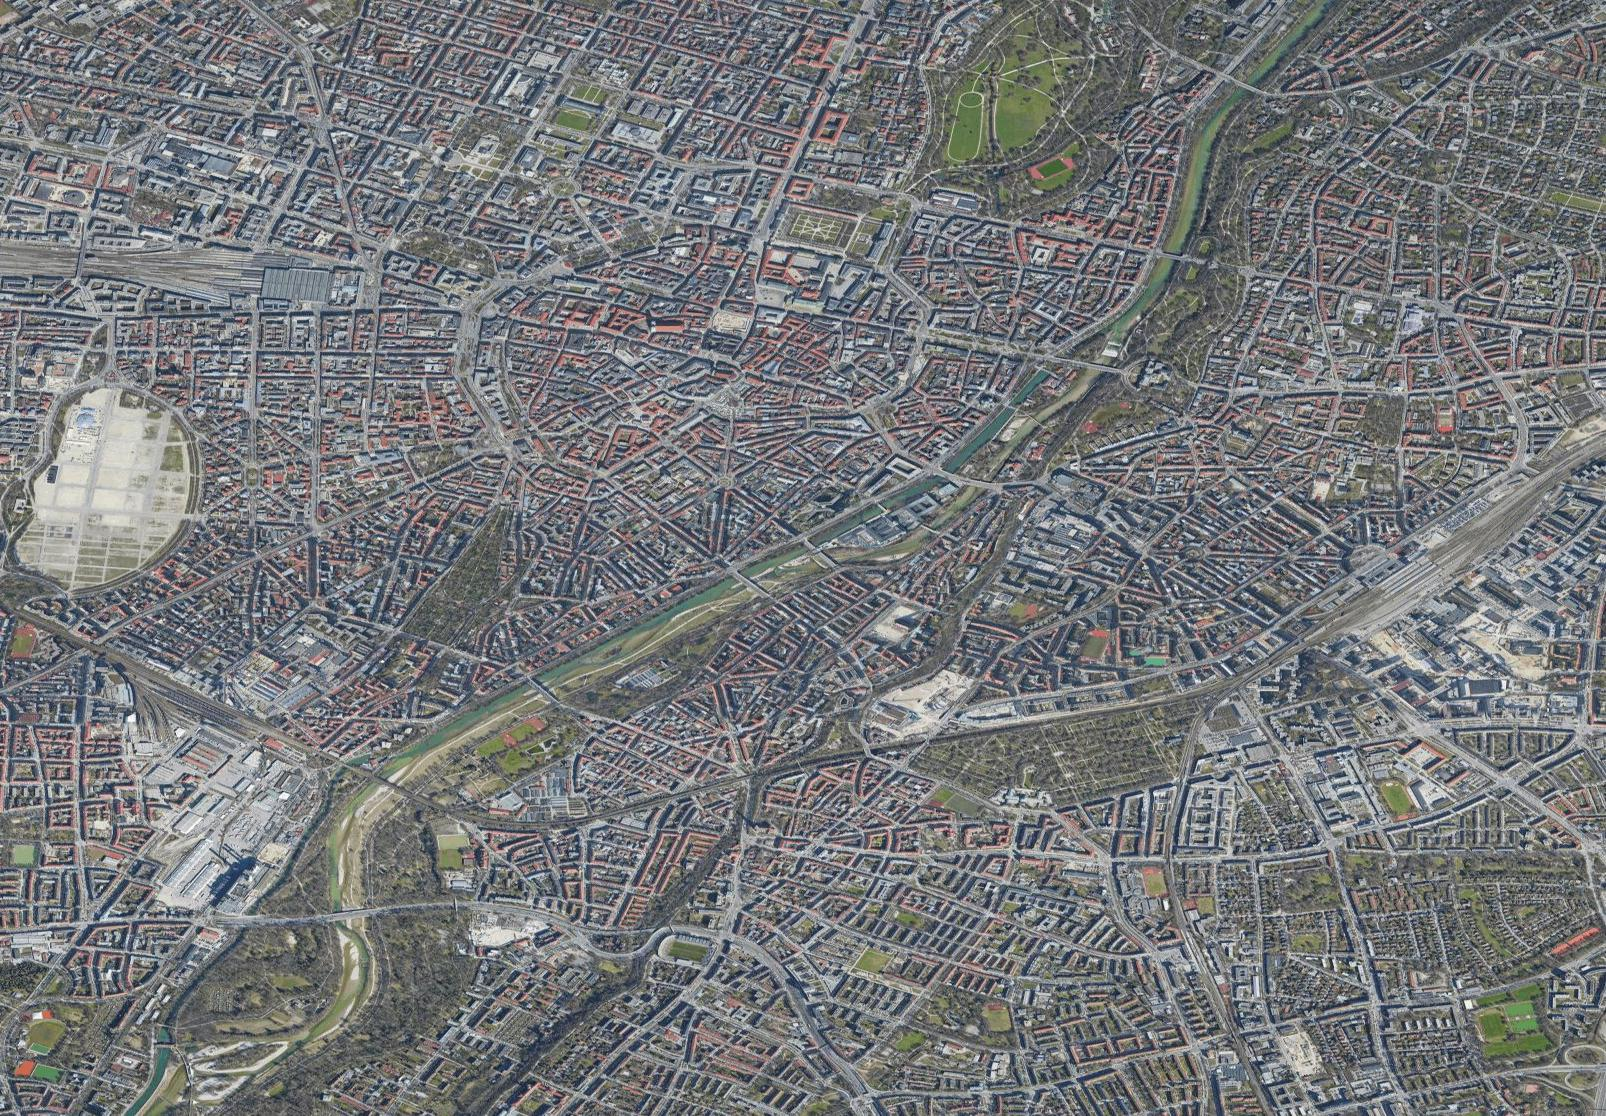bridge: (317, 904, 373, 927), (1220, 68, 1259, 94), (356, 766, 395, 788), (522, 672, 552, 698), (725, 562, 754, 589), (793, 534, 823, 560), (929, 457, 958, 484), (1153, 244, 1183, 264), (1001, 397, 1023, 418)
train_station: (1357, 541, 1450, 606)
